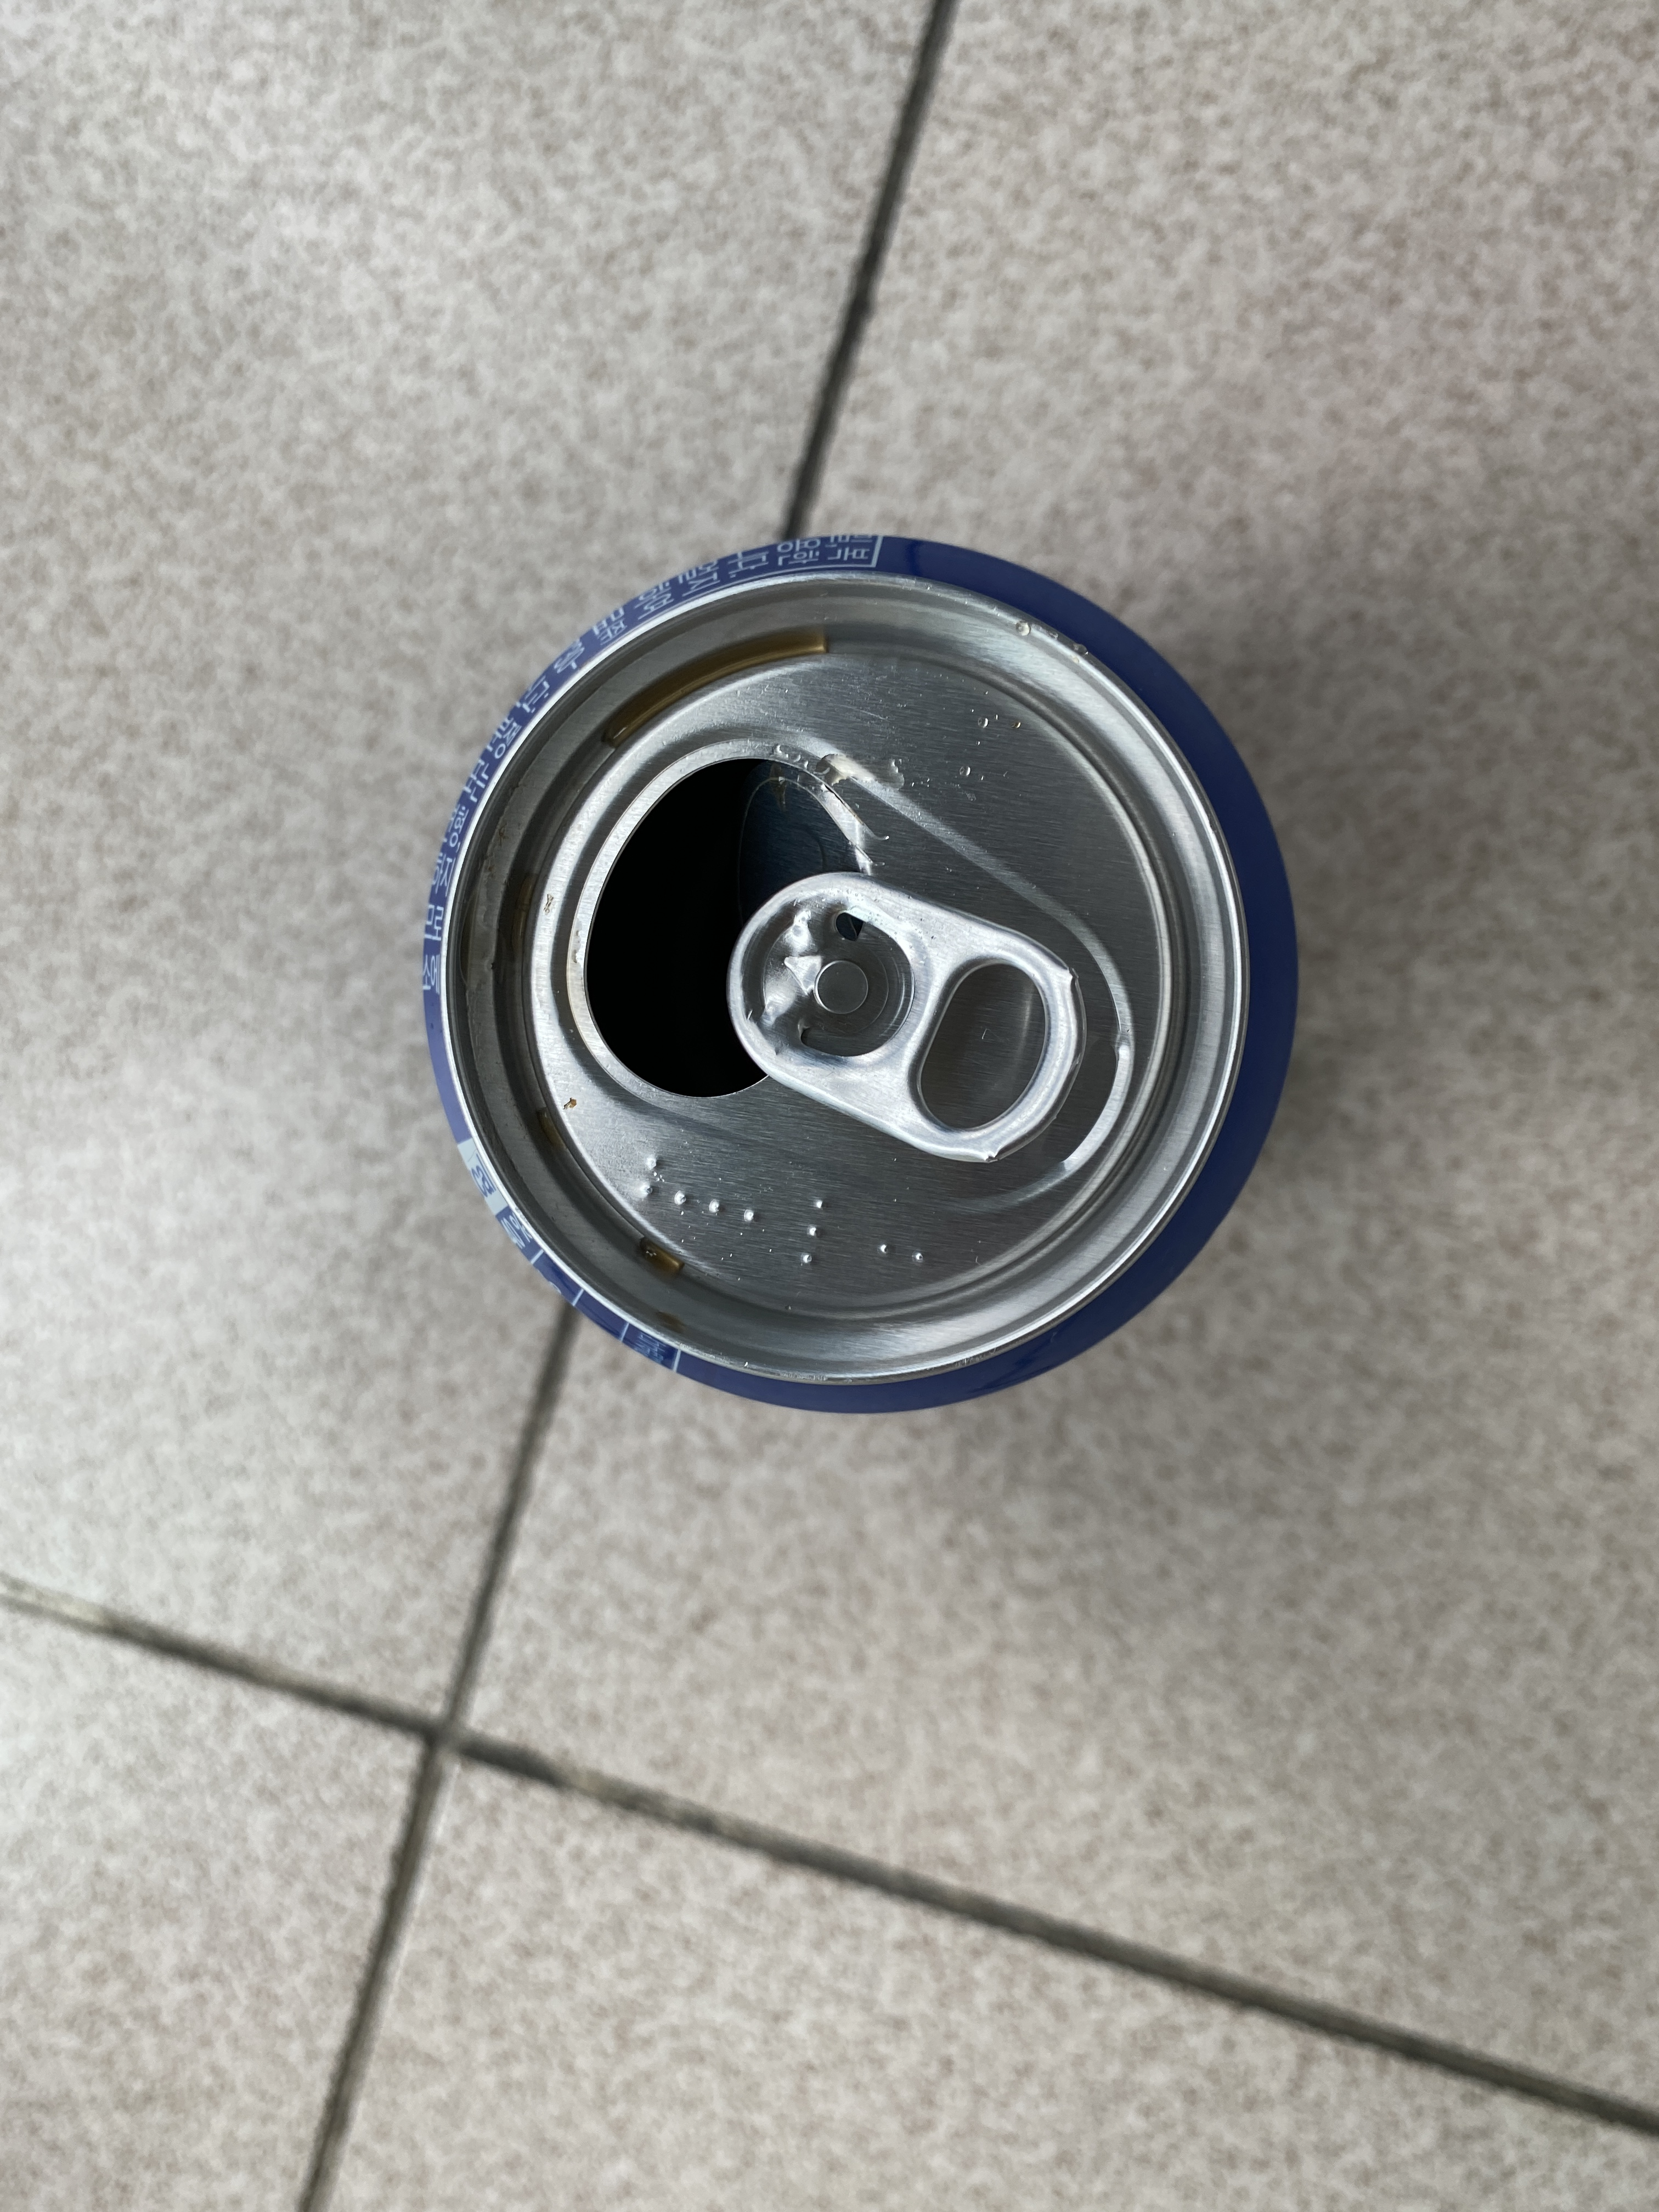metal: (369, 467, 1340, 1493)
